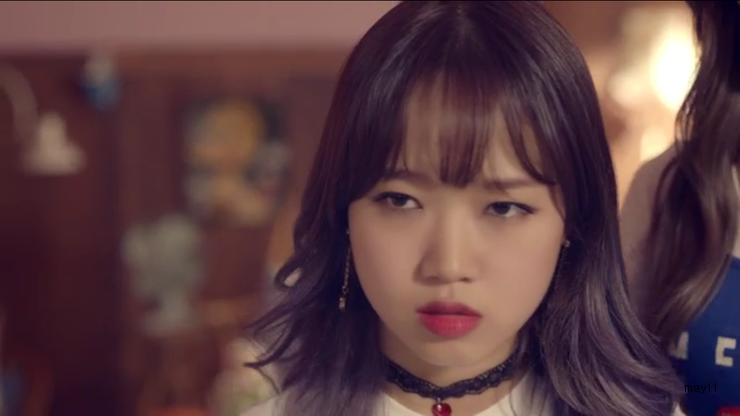without_mask: (336, 90, 586, 364)
